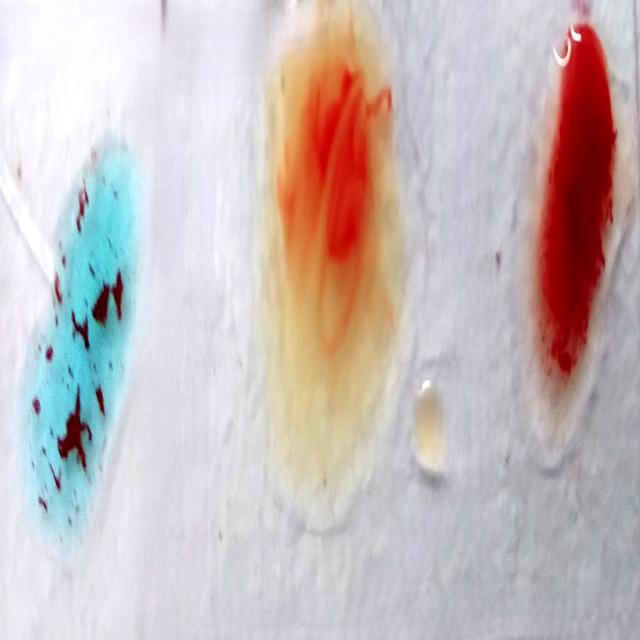A: (28, 144, 128, 552)
D: (518, 21, 626, 473)
